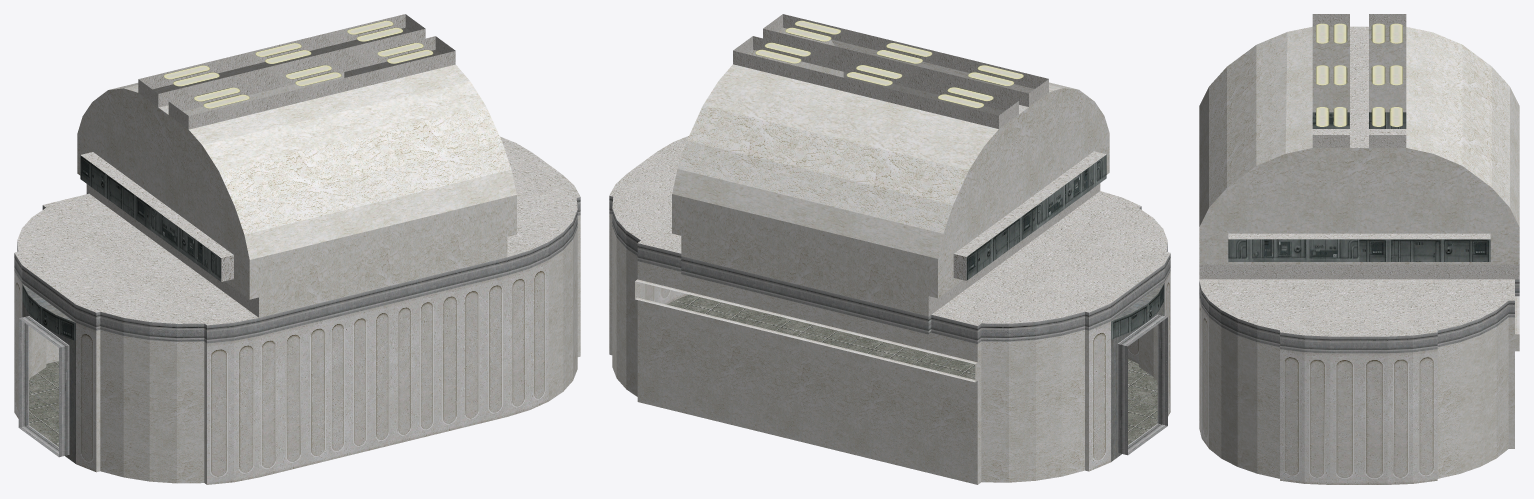
The model's file is ply_all_house_m_s02_fp1_r3_mainroom_mesh.fbx.
3 views of the same model, side by side, from view 1: azimuth 30°, elevation 25°; view 2: azimuth 150°, elevation 25°; view 3: azimuth 270°, elevation 25° (orthographic). The views are drawn at different scales.
Visible parts, largest first — view 1: mesh_node; view 2: mesh_node; view 3: mesh_node.
Part boxes in pixels (<box>): mesh_node: <box>14,14,580,484</box>; mesh_node: <box>609,14,1170,484</box>; mesh_node: <box>1199,14,1519,484</box>.
Size of the model in its own units: 14.59 by 8.75 by 8.57.
